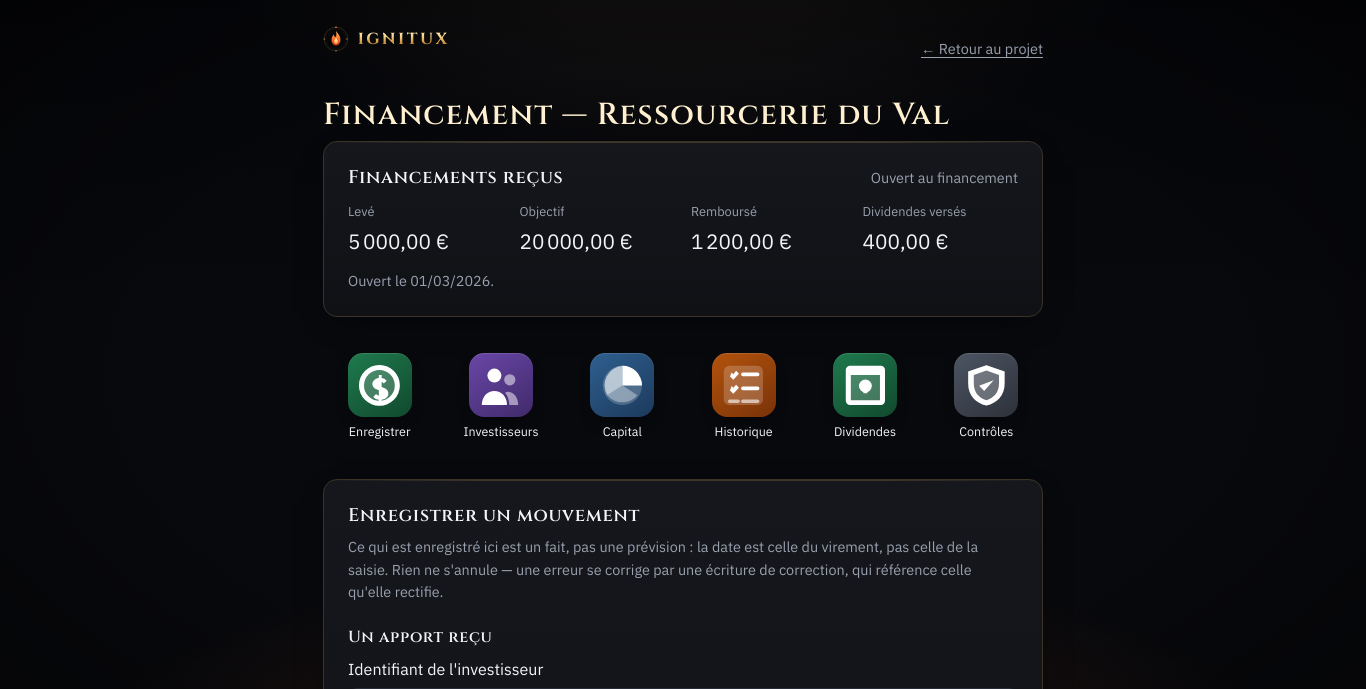
Test: ProjectFinancesPage › correction d’un mouvement › envoie le montant signé converti en centimes, avec la date et le motif
Click the button "Historique" at (744, 396), box 692,349 -> 796,443
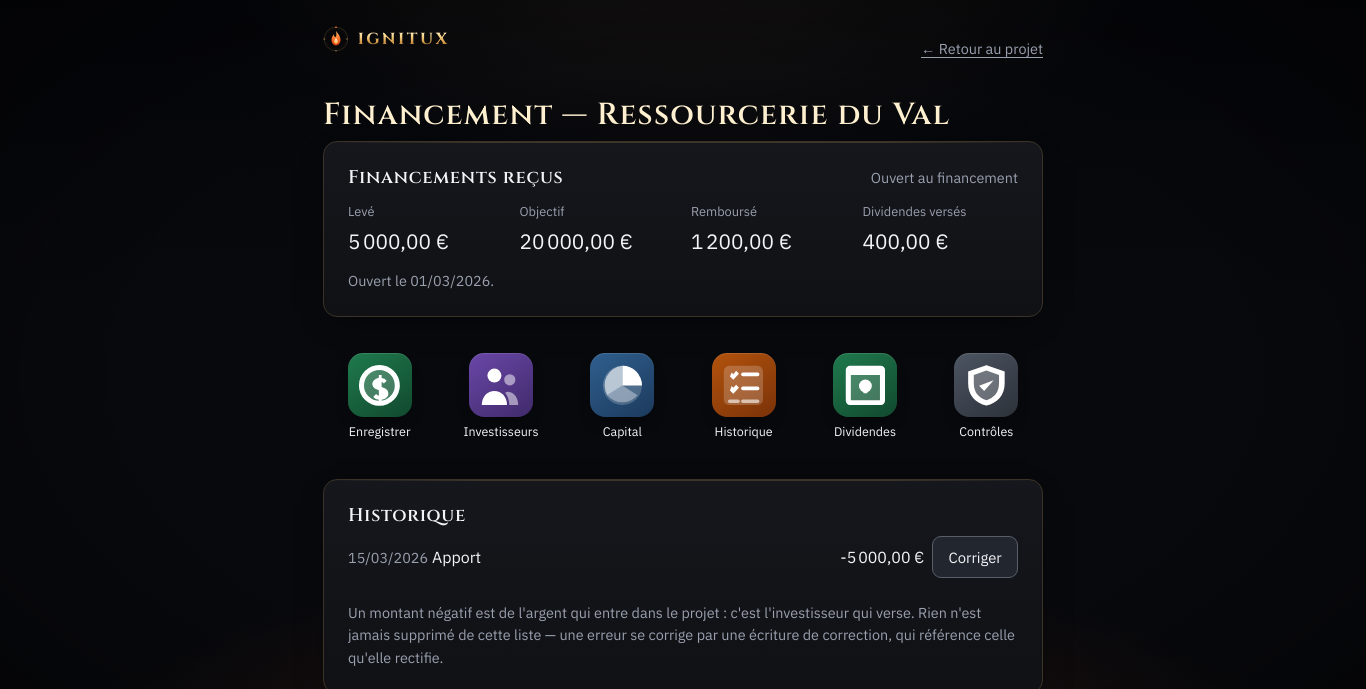
Click the button with aria-label "Corriger le mouvement du" at (975, 557), box 932,536 -> 1018,578
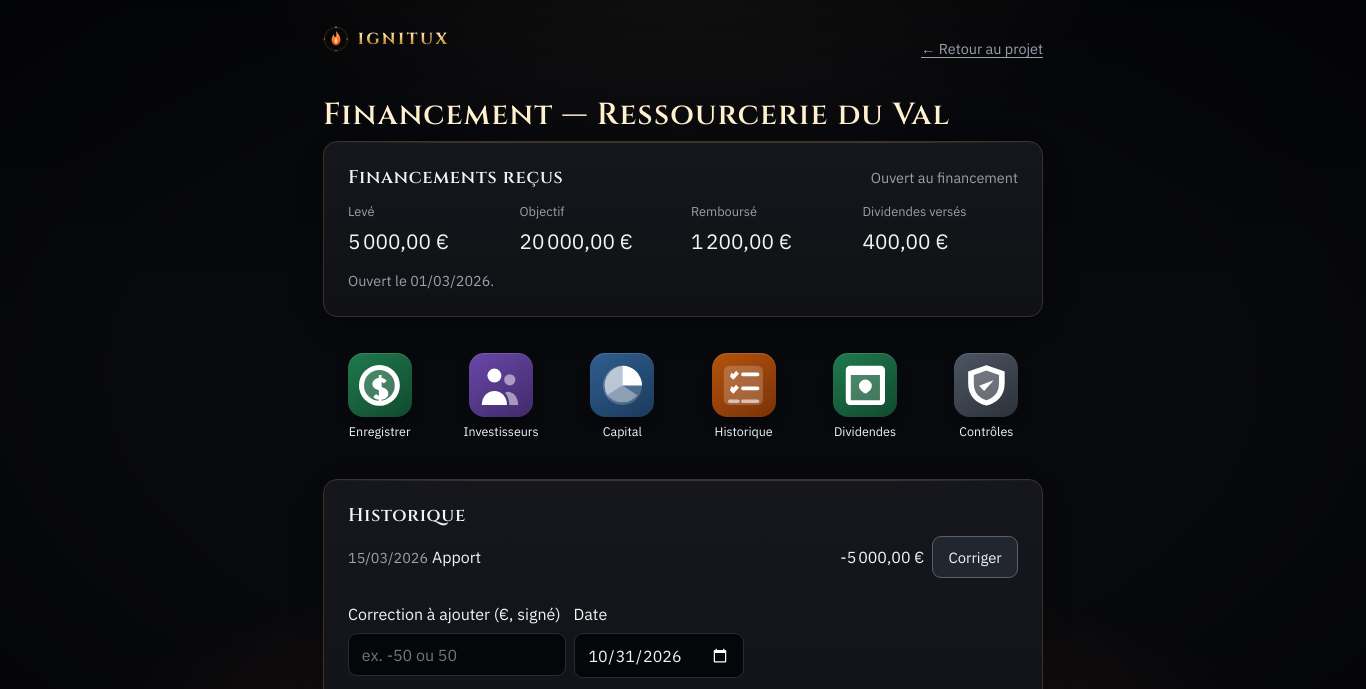
Type "-50" into the field labelled "Correction à ajouter (€, signé)" at (457, 655), box 348,633 -> 566,676
(page scrolled)
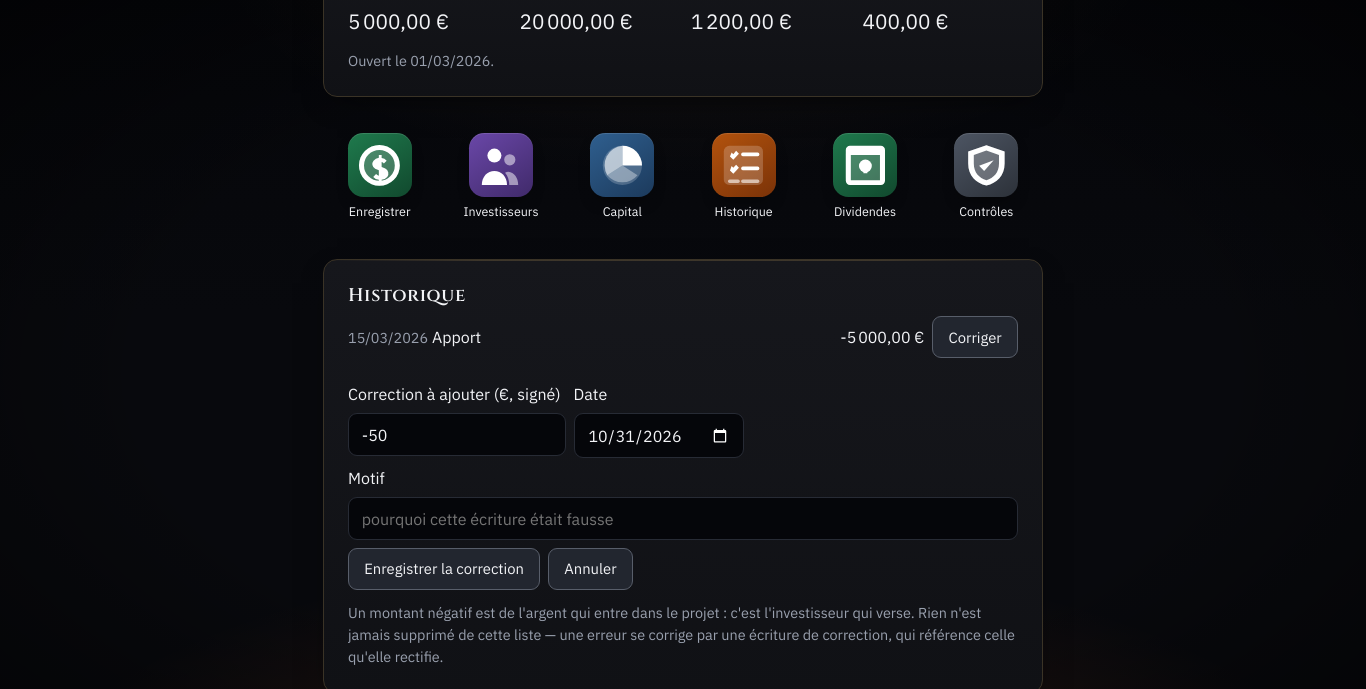
Type "Doublon de saisie" into the field labelled "Motif" at (683, 519), box 348,497 -> 1018,540
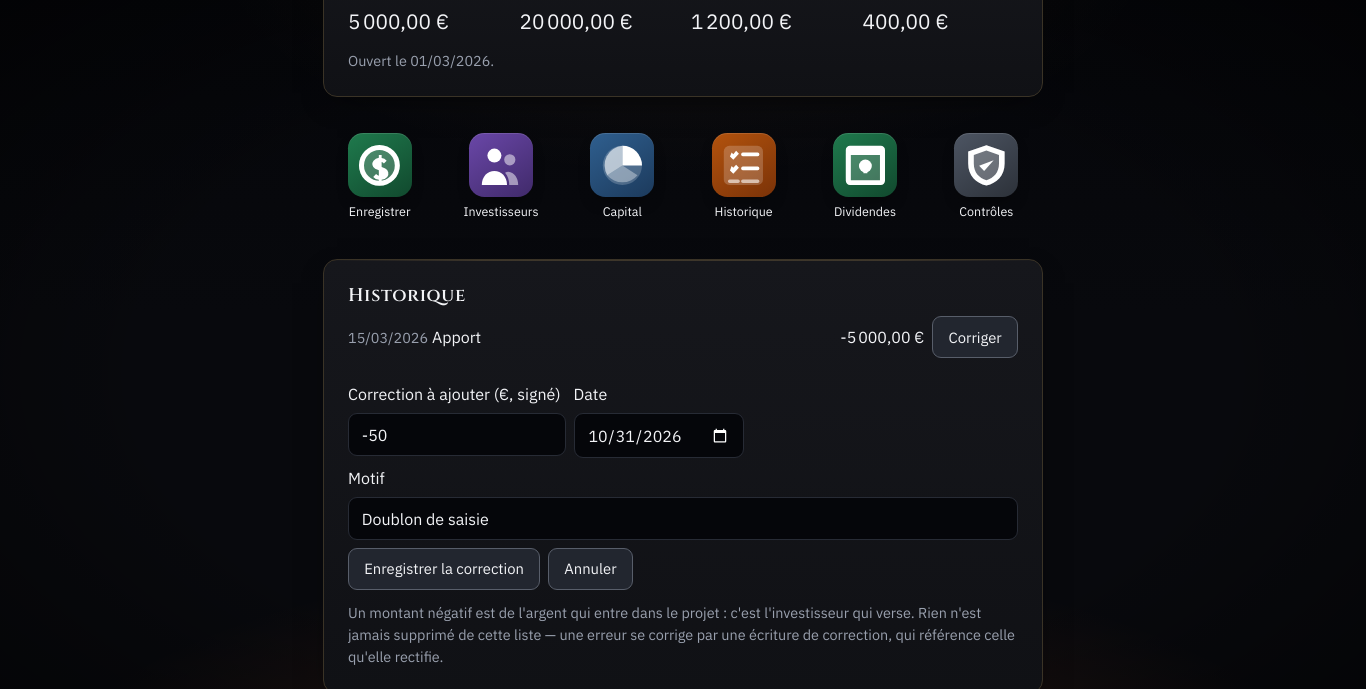
Click the button "Enregistrer la correction" at (444, 569), box 348,548 -> 540,590
(page scrolled)
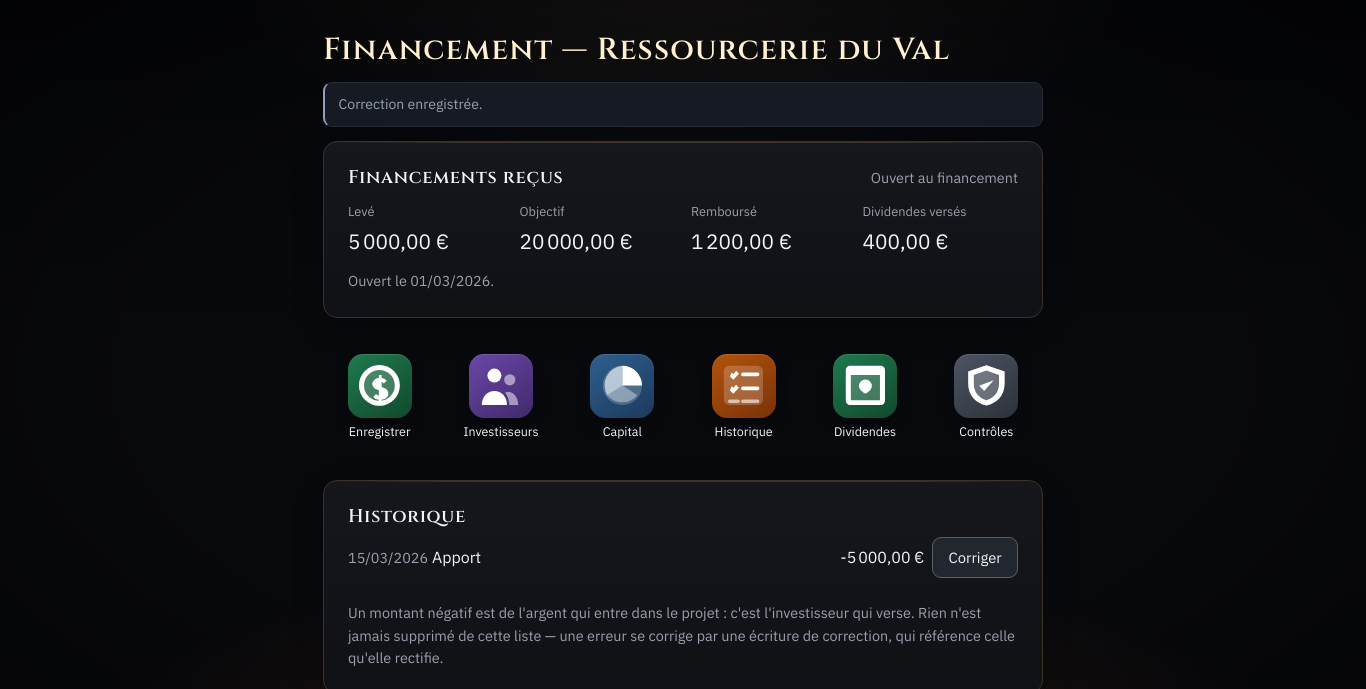
Result: the text "Correction enregistrée." is shown at 339,94 -> 482,115
